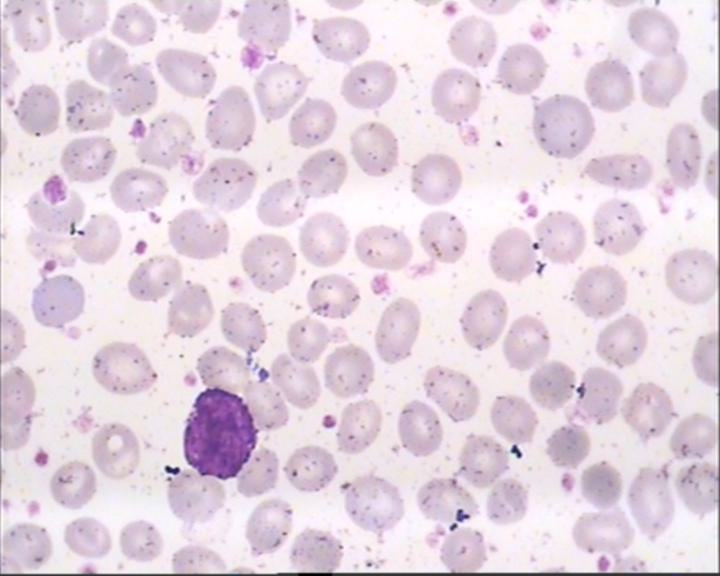baso: (178, 386, 258, 484)
